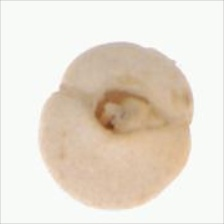L3: (90, 87, 170, 134)
L4: (38, 41, 194, 211)
